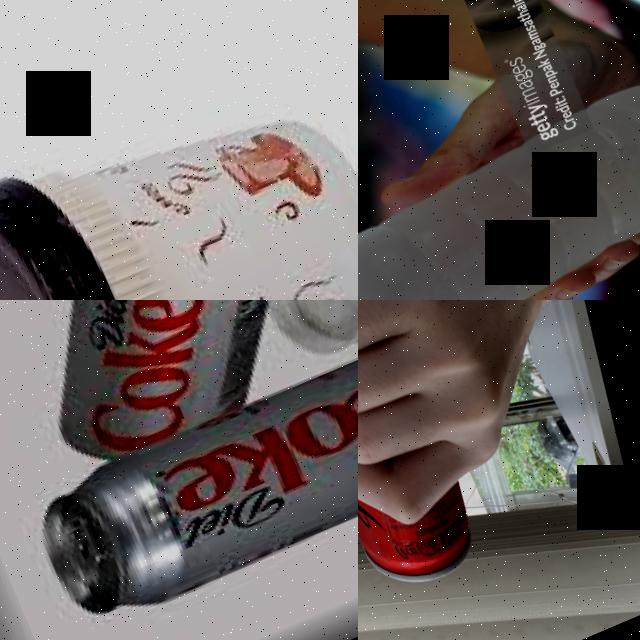bottle: (358, 58, 640, 300)
can: (21, 321, 358, 636), (0, 300, 349, 475), (358, 300, 537, 603)
cup: (0, 44, 358, 300)
